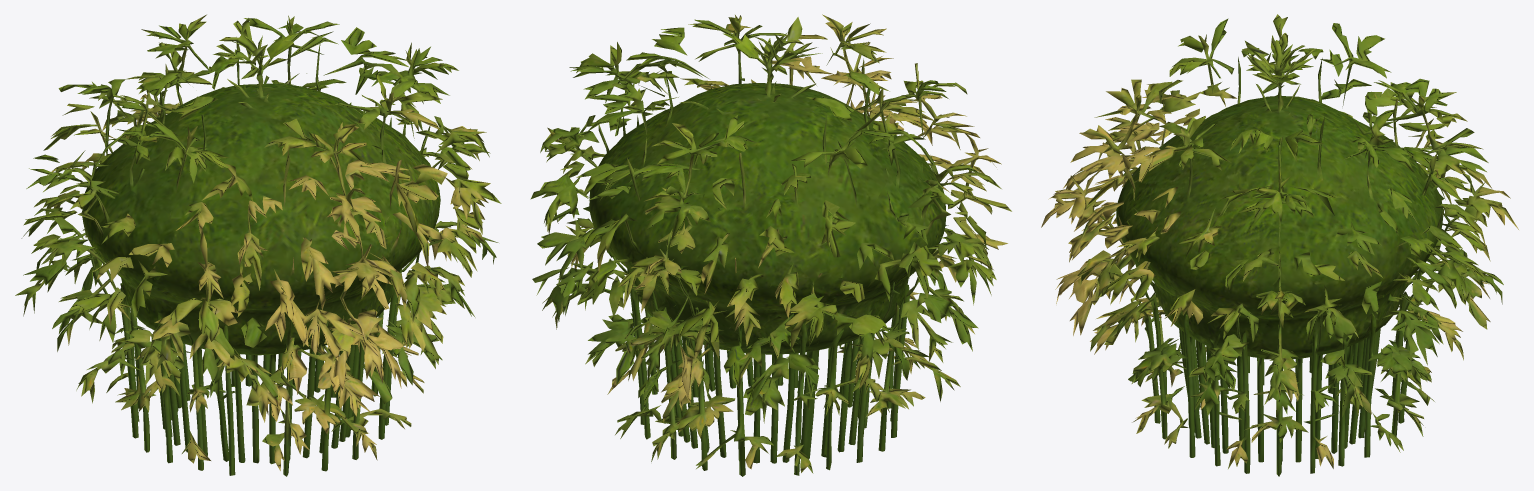
Rendered from dwarf_bush.glb.
The picture shows the model from 3 angles, left to right: view 1: azimuth 30°, elevation 25°; view 2: azimuth 150°, elevation 25°; view 3: azimuth 270°, elevation 25°; orthographic projection. The views are drawn at different scales.
Visible parts, largest first — view 1: tripo_node_2af00dfd-1d14-4eec-920e-6dd67efe0ece; view 2: tripo_node_2af00dfd-1d14-4eec-920e-6dd67efe0ece; view 3: tripo_node_2af00dfd-1d14-4eec-920e-6dd67efe0ece.
Part boxes in pixels (left/top/right/bottom): tripo_node_2af00dfd-1d14-4eec-920e-6dd67efe0ece: left=15, top=14, right=501, bottom=476; tripo_node_2af00dfd-1d14-4eec-920e-6dd67efe0ece: left=530, top=14, right=1011, bottom=476; tripo_node_2af00dfd-1d14-4eec-920e-6dd67efe0ece: left=1041, top=14, right=1518, bottom=476.
Size of the model in its own units: 1 by 0.8511 by 0.9756.
1 material, 1 textured.
